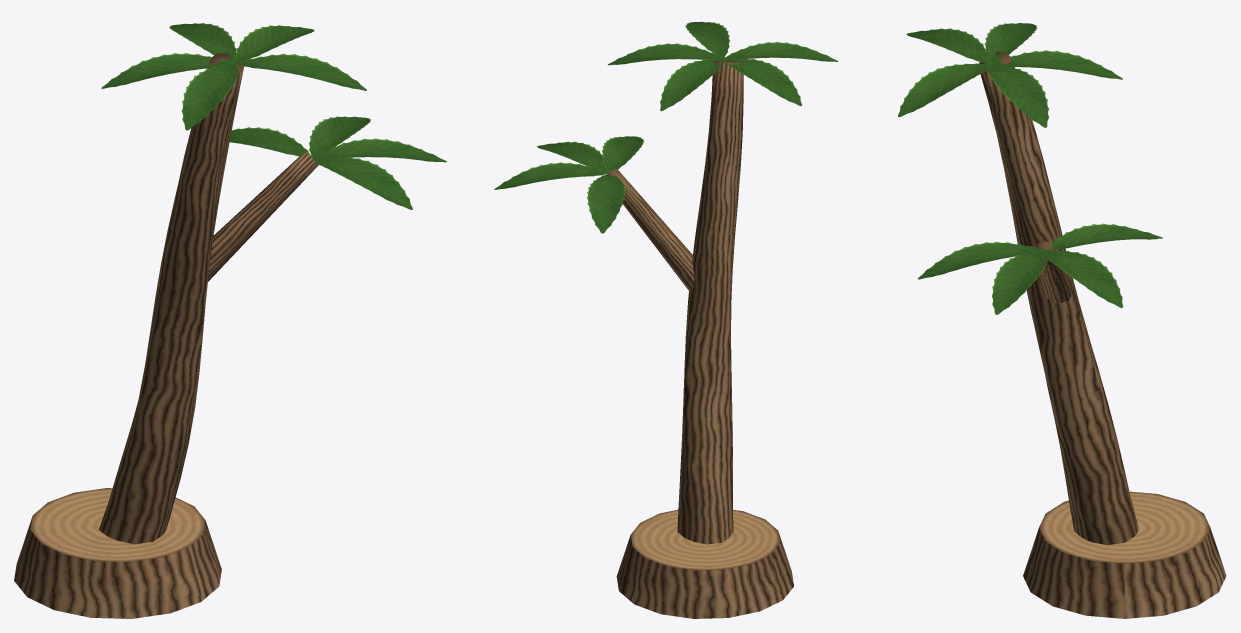
The model's file is prop_perch.glb.
3 renders of one model, left to right at view 1: azimuth 30°, elevation 25°; view 2: azimuth 150°, elevation 25°; view 3: azimuth 270°, elevation 25°, orthographic. The views are drawn at different scales.
Parts seen in each view (by area): view 1: perch, plant_leaf, perchend; view 2: perch, plant_leaf, perchend; view 3: perch, plant_leaf, perchend.
Boxes of the visible parts, x1=… form: perch: x1=14, y1=53, x2=318, y2=618; plant_leaf: x1=101, y1=23, x2=446, y2=209; perchend: x1=30, y1=488, x2=205, y2=561; perch: x1=606, y1=60, x2=793, y2=618; plant_leaf: x1=494, y1=21, x2=838, y2=233; perchend: x1=630, y1=509, x2=779, y2=570; perch: x1=979, y1=52, x2=1226, y2=618; plant_leaf: x1=898, y1=23, x2=1162, y2=314; perchend: x1=1039, y1=491, x2=1210, y2=563.
Bounding box in the file's own units: 7.69 × 11.32 × 6.53.
Materials: 3 (3 with a texture image).
